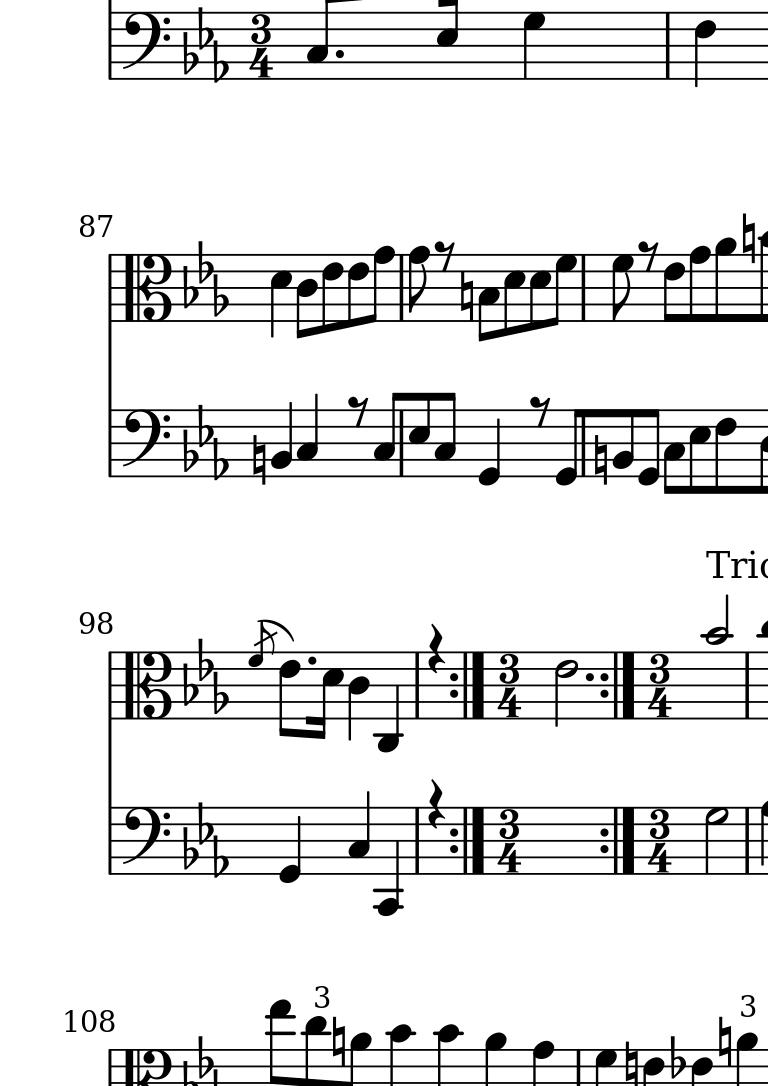0: (78, 1009, 99, 1035)
1: (62, 1008, 78, 1035)
16_5: (309, 650, 344, 747)
2_10: (704, 594, 730, 722)
2_6: (552, 650, 579, 729)
2_7: (703, 806, 728, 876)
3: (647, 650, 672, 687), (496, 651, 522, 686), (249, 13, 273, 44), (499, 808, 521, 841), (649, 807, 671, 840), (311, 983, 332, 1009), (739, 992, 756, 1019)
4: (248, 44, 275, 77), (497, 841, 522, 875), (647, 841, 673, 873), (497, 686, 522, 719), (647, 687, 672, 718)
4_-3: (376, 650, 402, 754)
4_-4: (377, 805, 401, 917)
4_0: (478, 409, 503, 484), (279, 806, 301, 883)
4_2: (270, 401, 293, 478)
4_3: (346, 789, 371, 876), (297, 392, 319, 479)
4_4: (347, 650, 370, 742)
4_5: (268, 252, 292, 339)
4_6: (693, 10, 717, 88)
4_7: (523, 11, 546, 80)
7: (98, 213, 115, 239)
8: (96, 608, 113, 636), (78, 213, 95, 239), (99, 1009, 115, 1036)
8_0: (555, 408, 581, 486), (637, 407, 660, 488)
8_2: (613, 407, 635, 481)
8_3: (373, 391, 400, 479), (433, 392, 459, 480), (476, 253, 500, 346), (662, 408, 685, 496)
8_4: (294, 253, 317, 340)
8_5: (406, 391, 431, 478), (686, 408, 710, 497), (504, 253, 525, 337), (529, 253, 550, 333)
8_6: (278, 650, 302, 739), (714, 408, 737, 494), (319, 253, 343, 333), (347, 253, 367, 328), (662, 253, 683, 324)
8_7: (552, 253, 578, 328), (611, 253, 633, 324)
8_8: (368, 246, 392, 324), (687, 244, 710, 323), (406, 246, 428, 322)
8_9: (714, 237, 737, 325)
9: (78, 609, 95, 636)
Acciaccature: (247, 622, 277, 720)
Cclef: (122, 652, 171, 722), (124, 254, 172, 323)
Fclef: (123, 807, 173, 876), (121, 10, 169, 81), (123, 407, 169, 477)
Flat: (668, 1035, 685, 1079)
Natural: (622, 1037, 640, 1085), (331, 1015, 346, 1070), (592, 434, 608, 485), (458, 270, 474, 320), (251, 435, 266, 485), (742, 213, 755, 264), (718, 1016, 731, 1067)
Rests4: (428, 777, 446, 829), (428, 624, 445, 673)
Rests8: (639, 237, 660, 274), (434, 238, 456, 272), (529, 395, 551, 428), (347, 394, 366, 428)
RightRepeatSign: (447, 650, 488, 719), (599, 806, 638, 876), (447, 805, 486, 874), (600, 650, 636, 720)
Single_barline: (738, 804, 761, 877), (659, 10, 680, 82), (407, 805, 427, 878), (737, 654, 756, 717), (576, 252, 593, 322), (102, 10, 118, 81), (103, 805, 118, 878), (410, 653, 426, 718), (103, 649, 118, 718), (104, 409, 118, 478), (395, 253, 409, 322), (104, 254, 117, 322), (395, 409, 408, 477), (104, 1051, 116, 1085)
Slur: (259, 617, 297, 642)
TimeSig: (496, 651, 524, 722), (647, 806, 674, 876), (647, 651, 674, 720), (497, 806, 522, 876), (249, 12, 274, 79)
dot: (306, 654, 319, 668), (333, 47, 345, 60), (584, 670, 595, 683)
